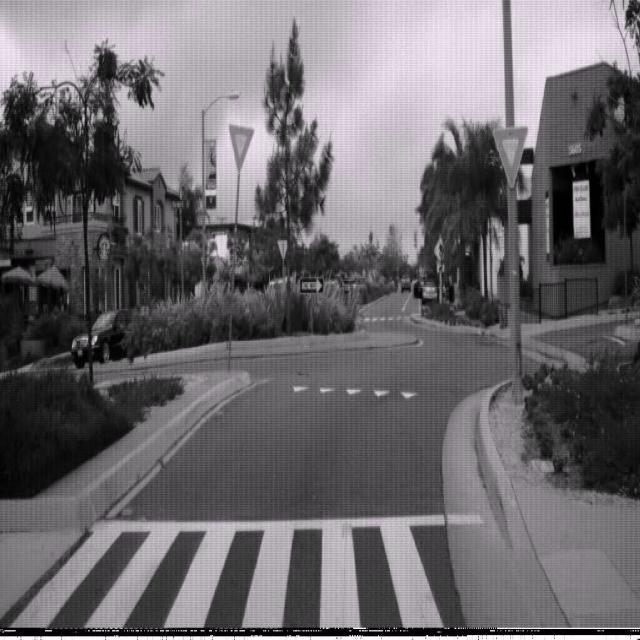pedestrianCrossing: (432, 234, 448, 264)
yield: (491, 124, 528, 189), (228, 121, 255, 170)
